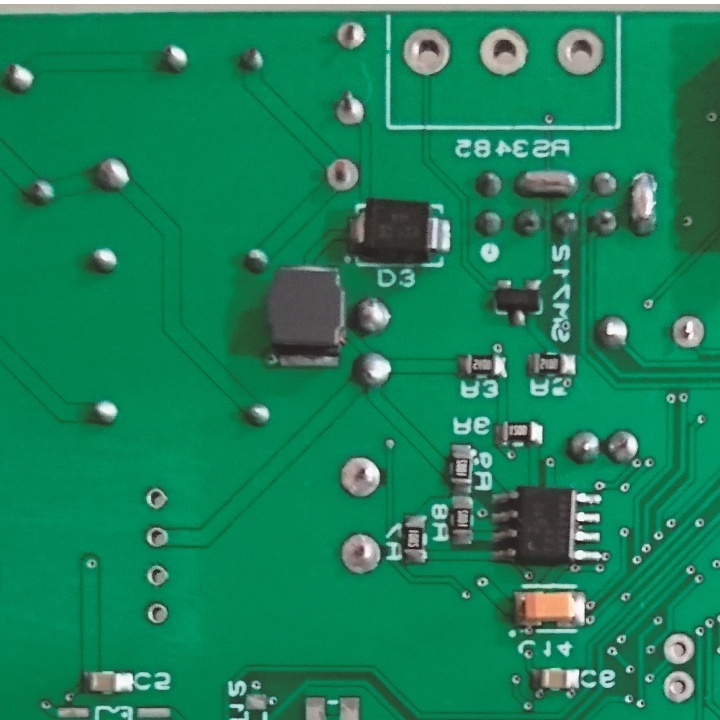F: (551, 26, 610, 79), (475, 26, 533, 79), (401, 26, 456, 80), (337, 529, 383, 581), (337, 455, 383, 500), (668, 311, 708, 352), (322, 155, 362, 194), (333, 88, 368, 128), (661, 666, 697, 704), (661, 630, 697, 666), (334, 17, 370, 53), (144, 598, 170, 628), (143, 524, 170, 552), (145, 561, 171, 589), (144, 486, 170, 513)
P: (511, 165, 580, 200), (628, 169, 662, 240)
